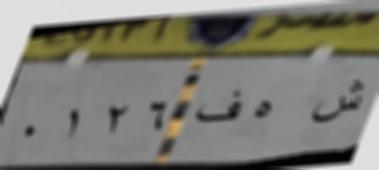0: (17, 114, 48, 144)
1: (61, 100, 86, 146)
2: (97, 97, 134, 145)
6: (140, 90, 173, 142)
faa: (193, 83, 246, 130)
haa: (243, 96, 282, 125)
sheen: (313, 72, 366, 130)
